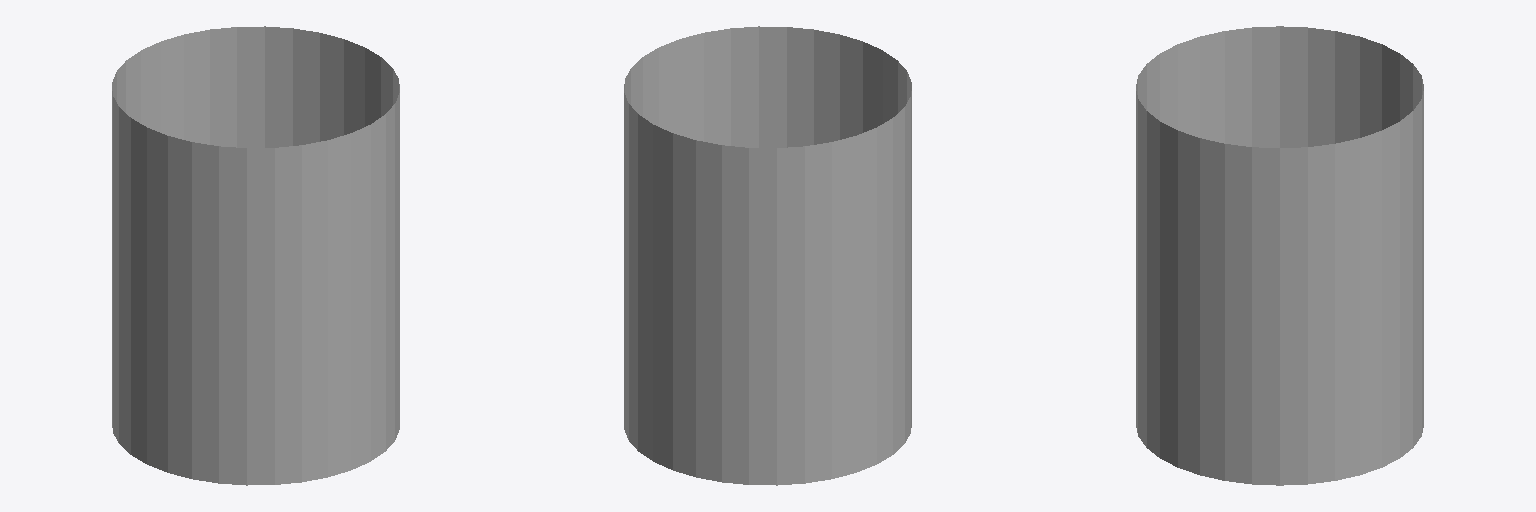
Rendered from small-heal-pack-glass.obj.
3 renders of one model, left to right at view 1: azimuth 30°, elevation 25°; view 2: azimuth 150°, elevation 25°; view 3: azimuth 270°, elevation 25°, orthographic.
Visible parts, largest first — view 1: основа_малой_аптечки.001_Куб.002; view 2: основа_малой_аптечки.001_Куб.002; view 3: основа_малой_аптечки.001_Куб.002.
Boxes of the visible parts, x1=… form: основа_малой_аптечки.001_Куб.002: x1=112, y1=26, x2=399, y2=485; основа_малой_аптечки.001_Куб.002: x1=624, y1=26, x2=911, y2=485; основа_малой_аптечки.001_Куб.002: x1=1136, y1=26, x2=1423, y2=485.
Size of the model in its own units: 0.2586 by 0.3333 by 0.2586.